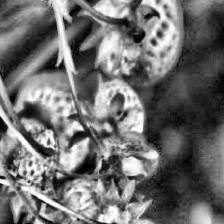Gray Mold: (83, 142, 161, 194)
